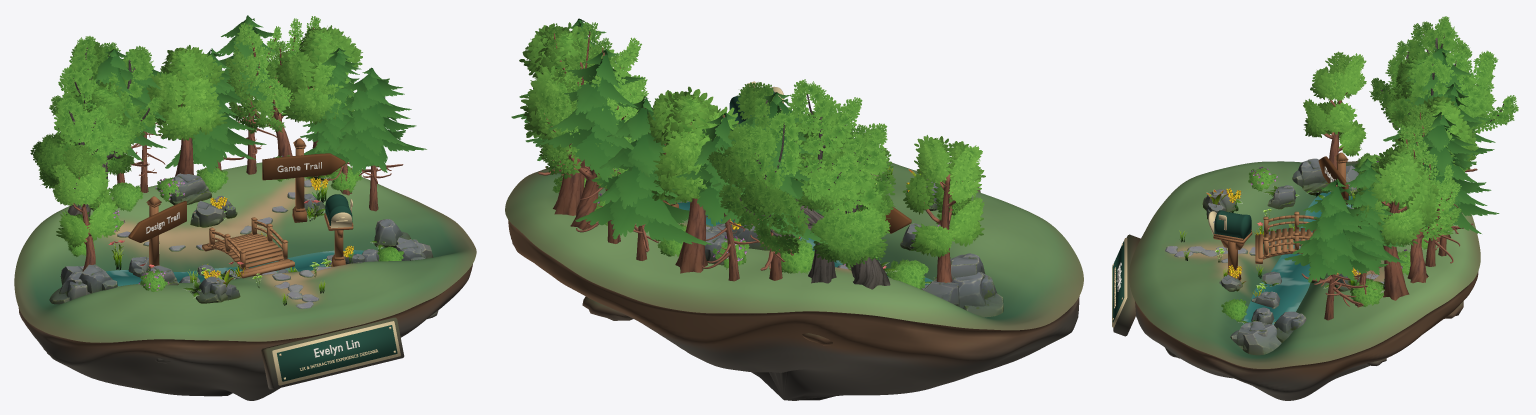
The model's file is crossroads_environment.glb.
The picture shows the model from 3 angles, left to right: view 1: azimuth 30°, elevation 25°; view 2: azimuth 150°, elevation 25°; view 3: azimuth 270°, elevation 25°; orthographic projection. The views are drawn at different scales.
Parts seen in each view (by area): view 1: Island_Terrain_Top, Island_Rock_Underside, Tree_NW_Hero_Canopy, Tree_NE_Hero_Canopy, Tree_E_Flank_Canopy, Environment_Rocks, Tree_N_Center_Canopy, Tree_W_Flank_Canopy, Tree_N_Right_Canopy, Identity_Plaque_Plate, Forest_Shrubs, Wooden_Bridge (+21 smaller); view 2: Island_Terrain_Top, Island_Rock_Underside, Tree_NW_Hero_Canopy, Tree_N_Right_Canopy, Tree_NE_Hero_Canopy, Tree_W_Flank_Canopy, Tree_N_Center_Canopy, Tree_N_Left_Canopy, Environment_Rocks, Forest_Shrubs, Tree_NW_Hero_Trunk, Tree_NE_Hero_Trunk (+5 smaller); view 3: Island_Terrain_Top, Tree_NW_Hero_Canopy, Tree_NE_Hero_Canopy, Tree_E_Flank_Canopy, Island_Rock_Underside, Environment_Rocks, Tree_W_Flank_Canopy, Tree_N_Right_Canopy, Stream_Water, Forest_Shrubs, Tree_NE_Hero_Trunk, Wooden_Bridge (+14 smaller).
Part boxes in pixels (box(x1,y1,x2,y2)): Island_Terrain_Top: box(14, 162, 476, 342); Island_Rock_Underside: box(18, 264, 472, 400); Tree_NW_Hero_Canopy: box(30, 36, 163, 189); Tree_NE_Hero_Canopy: box(225, 16, 362, 133); Tree_E_Flank_Canopy: box(300, 48, 426, 174); Environment_Rocks: box(49, 173, 433, 304); Tree_N_Center_Canopy: box(146, 45, 227, 140); Tree_W_Flank_Canopy: box(50, 144, 117, 248); Tree_N_Right_Canopy: box(162, 15, 285, 173); Identity_Plaque_Plate: box(277, 325, 397, 381); Forest_Shrubs: box(68, 155, 403, 291); Wooden_Bridge: box(202, 217, 294, 278); Island_Terrain_Top: box(505, 161, 1083, 330); Island_Rock_Underside: box(508, 219, 1079, 400); Tree_NW_Hero_Canopy: box(707, 79, 895, 267); Tree_N_Right_Canopy: box(539, 49, 711, 245); Tree_NE_Hero_Canopy: box(519, 22, 648, 189); Tree_W_Flank_Canopy: box(902, 135, 985, 257); Tree_N_Center_Canopy: box(646, 86, 738, 203); Tree_N_Left_Canopy: box(672, 92, 842, 243); Environment_Rocks: box(614, 169, 1003, 317); Forest_Shrubs: box(552, 176, 955, 289); Tree_NW_Hero_Trunk: box(738, 93, 890, 289); Tree_NE_Hero_Trunk: box(544, 31, 630, 229); Island_Terrain_Top: box(1129, 161, 1480, 368); Tree_NW_Hero_Canopy: box(1369, 16, 1518, 142); Tree_NE_Hero_Canopy: box(1353, 104, 1461, 246); Tree_E_Flank_Canopy: box(1284, 158, 1407, 282); Island_Rock_Underside: box(1135, 271, 1478, 400); Environment_Rocks: box(1202, 158, 1359, 355); Tree_W_Flank_Canopy: box(1303, 51, 1366, 156); Tree_N_Right_Canopy: box(1413, 112, 1499, 237); Stream_Water: box(1243, 191, 1352, 324); Forest_Shrubs: box(1221, 153, 1436, 321); Tree_NE_Hero_Trunk: box(1381, 112, 1452, 300); Wooden_Bridge: box(1255, 211, 1316, 263).
Bounding box in the file's own units: 9.19 × 6.81 × 7.7.
19 materials, 10 textured.
